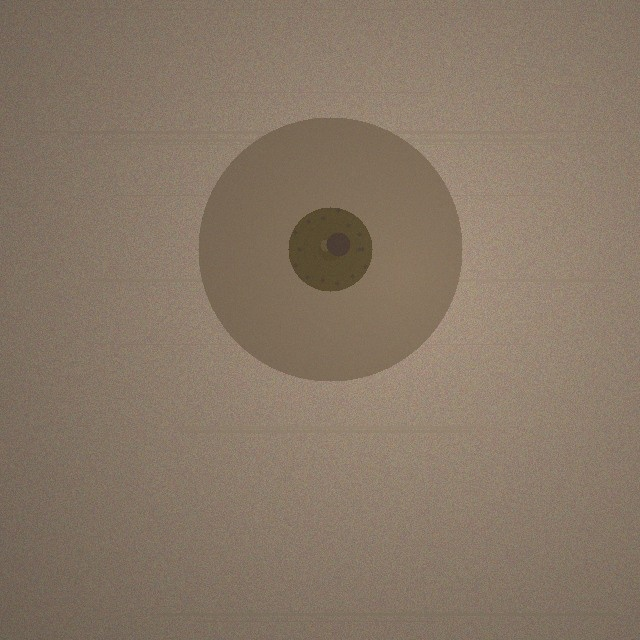cold_weld: (198, 117, 462, 381)
